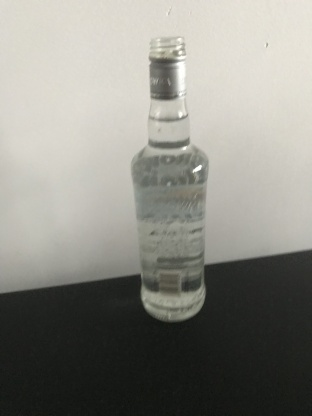nakretka: (147, 36, 188, 100)
